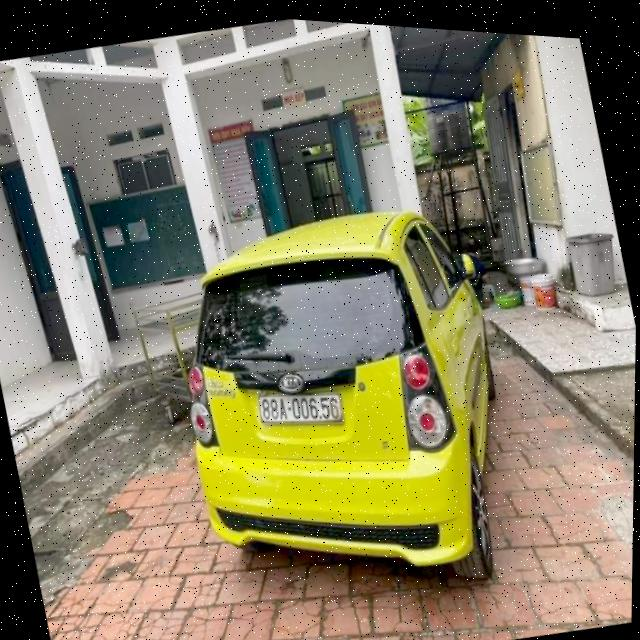car: (142, 179, 540, 615)
plate: (252, 375, 347, 442)
